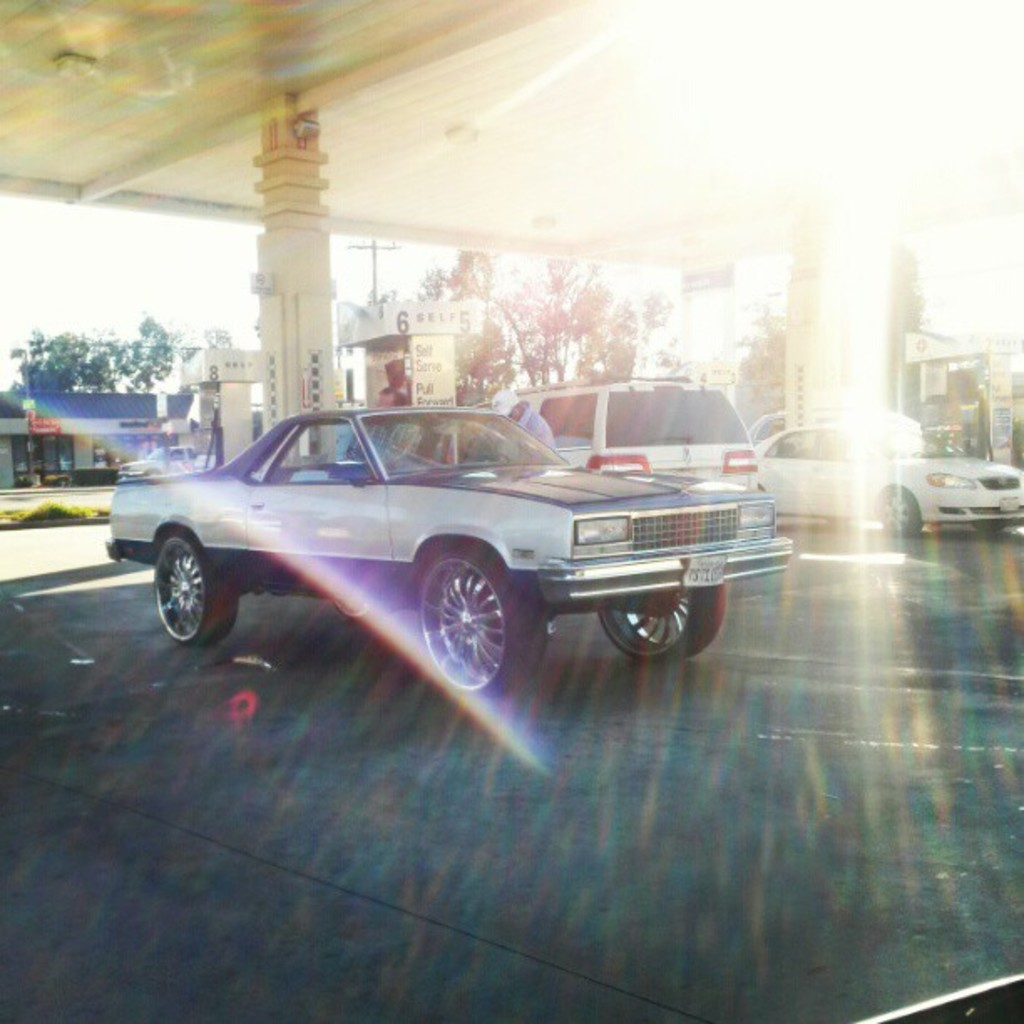Car: (102, 373, 1022, 706)
